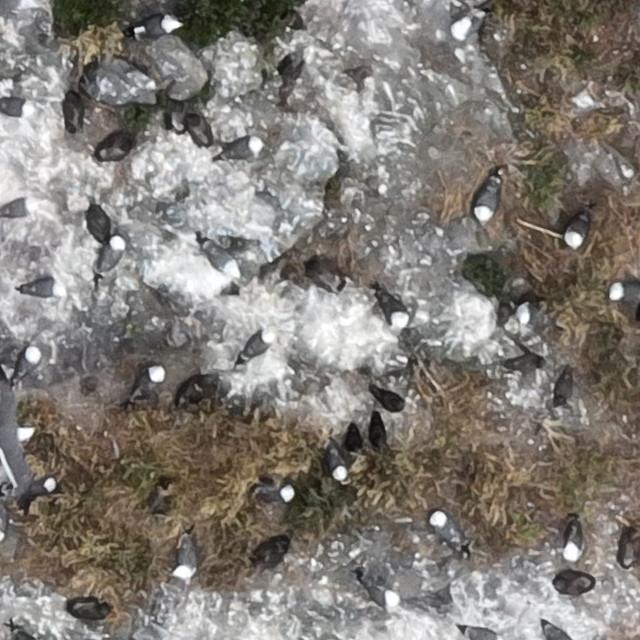F: (1, 394, 32, 489)
umineko: (449, 5, 493, 37), (519, 302, 559, 331), (206, 246, 238, 274), (477, 181, 500, 218), (433, 512, 460, 543), (222, 136, 260, 158), (382, 294, 407, 326), (553, 576, 594, 595), (365, 583, 398, 606), (244, 332, 272, 358), (567, 213, 589, 246), (105, 234, 126, 267), (138, 16, 174, 35), (177, 542, 197, 576), (18, 347, 39, 378), (137, 367, 163, 392), (328, 449, 348, 481), (26, 280, 61, 298), (564, 529, 583, 560), (0, 96, 31, 115), (258, 484, 290, 502), (610, 284, 640, 303), (378, 392, 406, 412), (2, 199, 30, 217), (463, 626, 499, 639), (543, 624, 571, 640), (272, 484, 293, 502), (39, 476, 58, 494)
